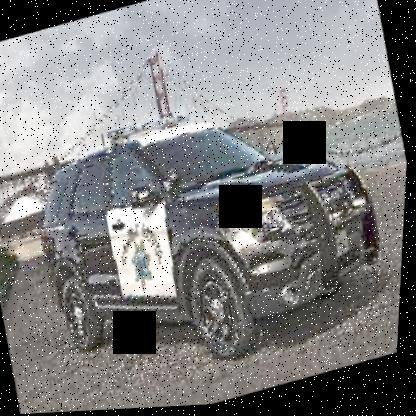emergency: (6, 60, 412, 412)
